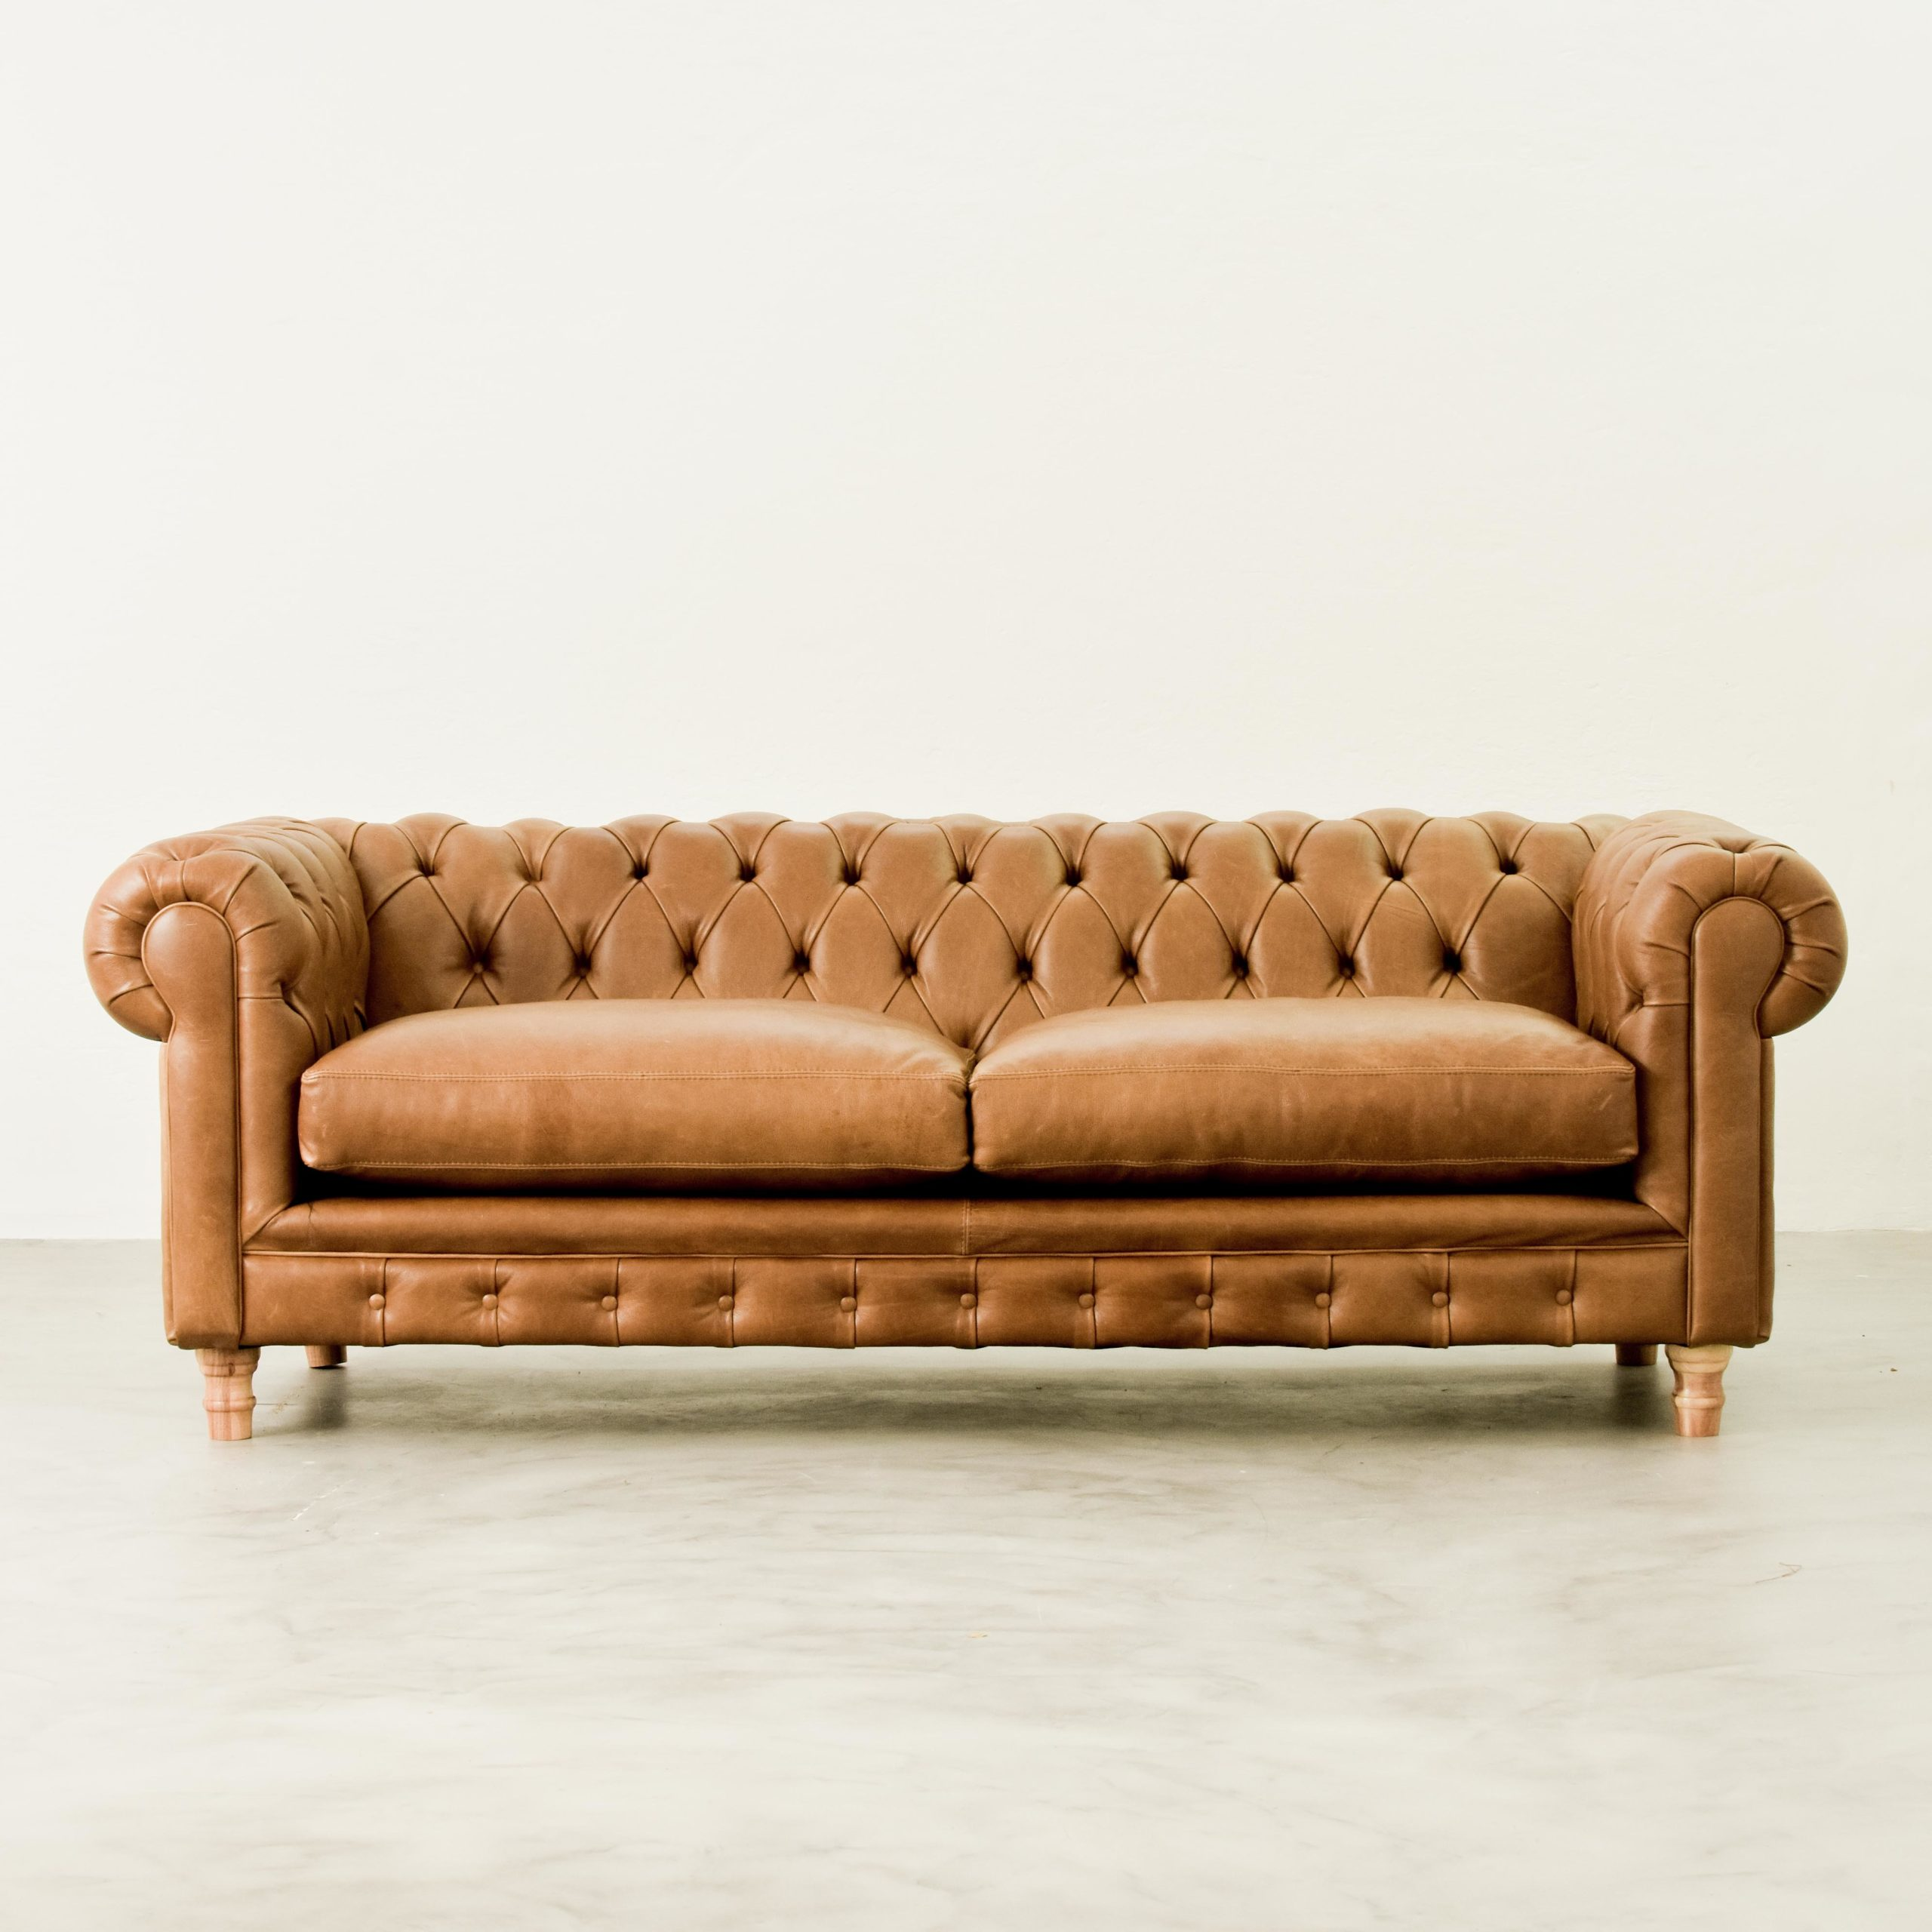sova: (41, 748, 1875, 1463)
